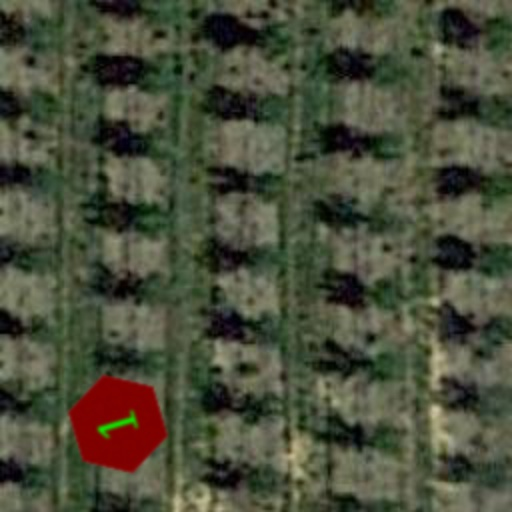hexagon: (52, 358, 184, 490)
